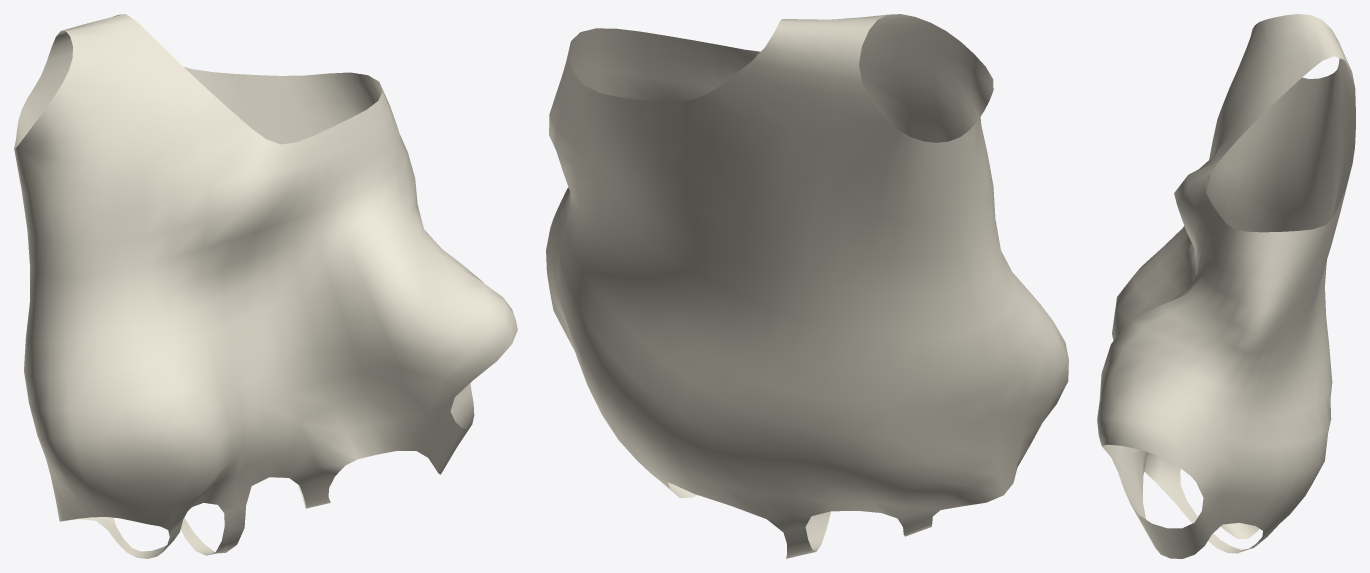
3 renders of one model, left to right at view 1: azimuth 30°, elevation 25°; view 2: azimuth 150°, elevation 25°; view 3: azimuth 270°, elevation 25°, orthographic. The views are drawn at different scales.
Parts seen in each view (by area): view 1: ZA_b39ad4ae0d41155e; view 2: ZA_b39ad4ae0d41155e; view 3: ZA_b39ad4ae0d41155e.
Part boxes in pixels (x1,y1,x2,y2): ZA_b39ad4ae0d41155e: (14, 14, 517, 558); ZA_b39ad4ae0d41155e: (546, 14, 1068, 558); ZA_b39ad4ae0d41155e: (1097, 14, 1355, 558).
Bounding box in the file's own units: 0.0549 × 0.0611 × 0.0303.
